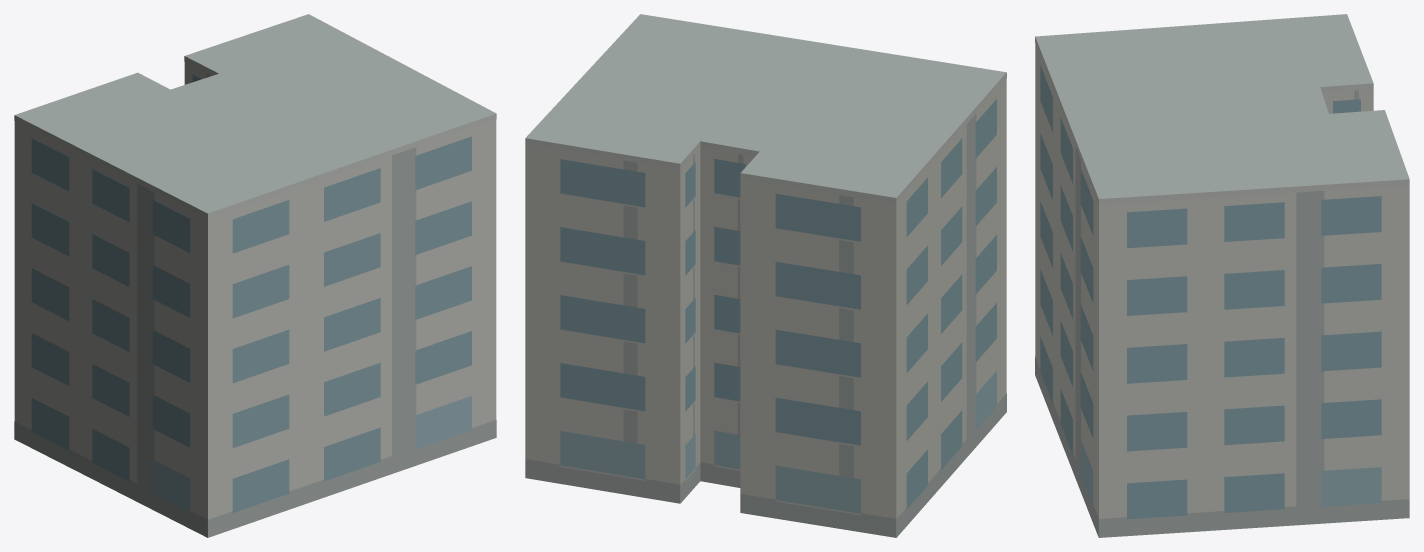
The model's file is survey-upis-32576768.glb.
3 renders of one model, left to right at view 1: azimuth 30°, elevation 25°; view 2: azimuth 150°, elevation 25°; view 3: azimuth 270°, elevation 25°, orthographic. The views are drawn at different scales.
Visible parts, largest first — view 1: survey-upis-32576768.tmp; view 2: survey-upis-32576768.tmp; view 3: survey-upis-32576768.tmp.
Boxes of the visible parts, x1,y1,x2,y2 form: survey-upis-32576768.tmp: (14, 14, 496, 537); survey-upis-32576768.tmp: (525, 14, 1006, 537); survey-upis-32576768.tmp: (1035, 14, 1409, 537).
Bounding box in the file's own units: 15.89 × 13.55 × 13.59.
